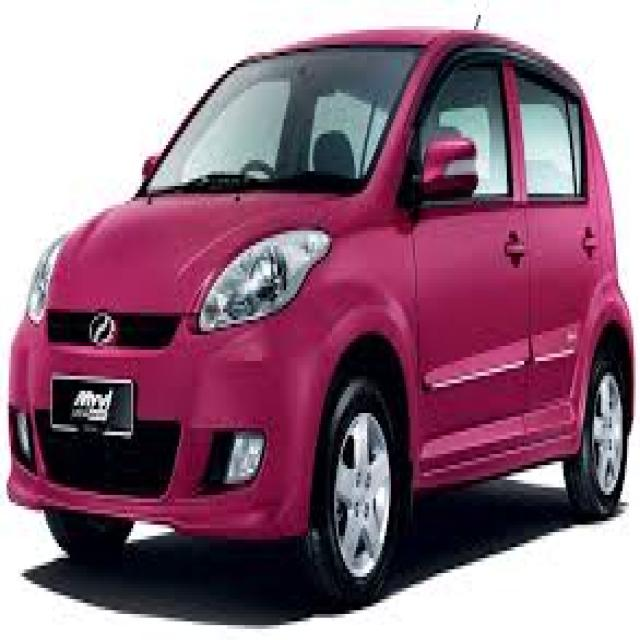PeroduaMyvi: (4, 15, 636, 610)
